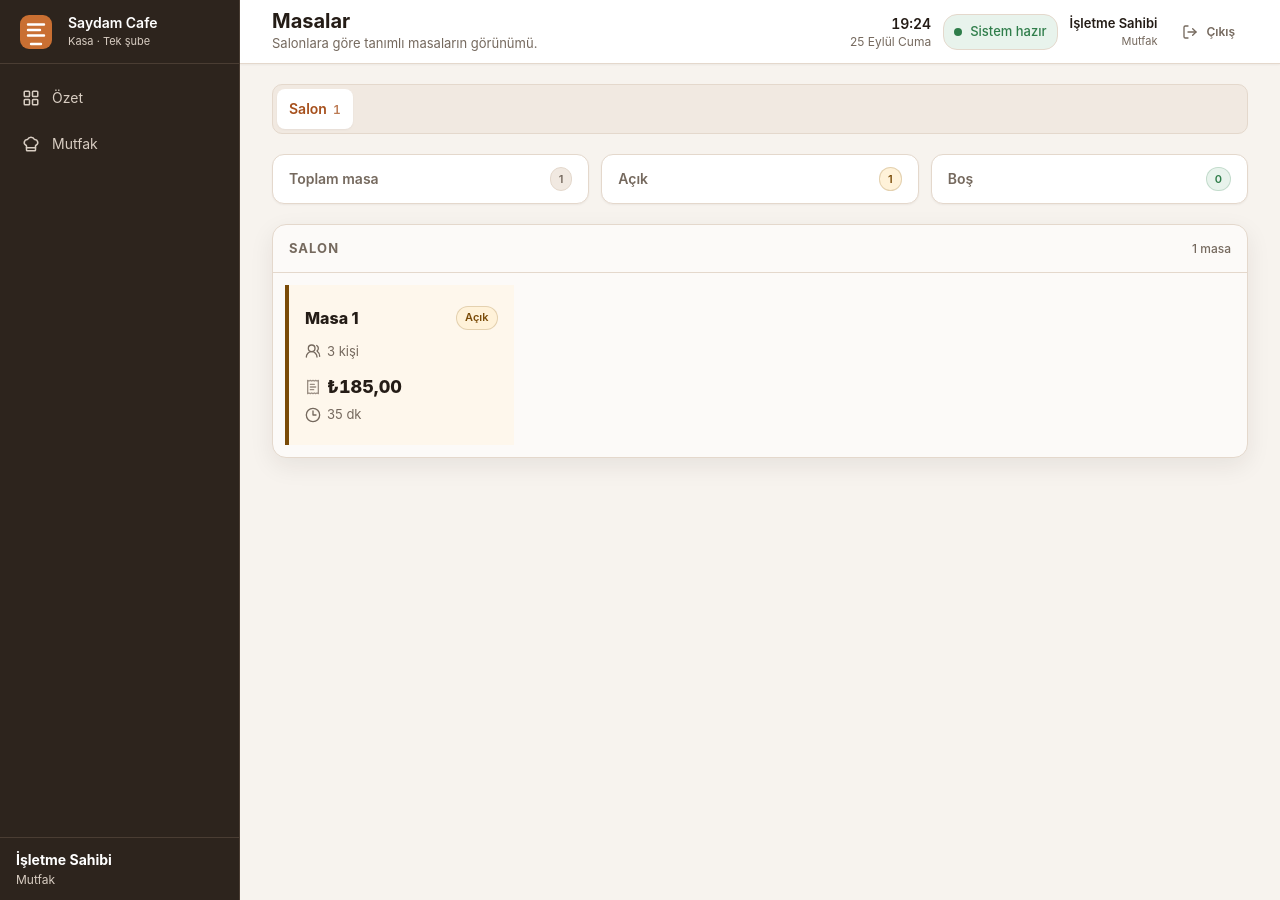
it: Masa ve adisyon ekranı › KITCHEN adisyonu görür fakat mutation kontrollerini görmez
Click the button "Masa 1 Açık 3 kişi ₺185,00 35 dk".
click(399, 365)  # box [285,285,514,445]
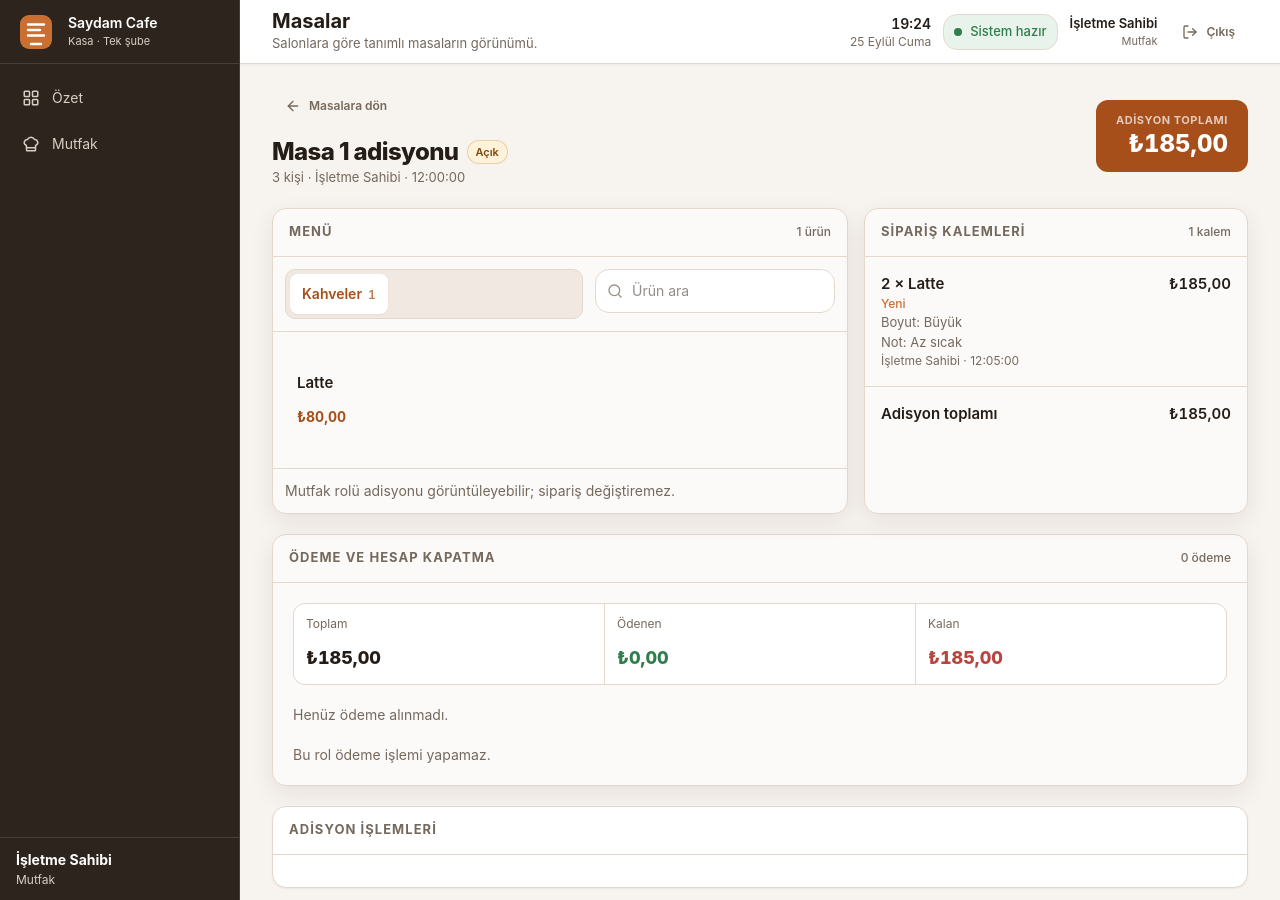
Check: the text "Mutfak rolü adisyonu görüntüleyebilir; sipariş değiştiremez." is shown, box [273,468,847,512]
